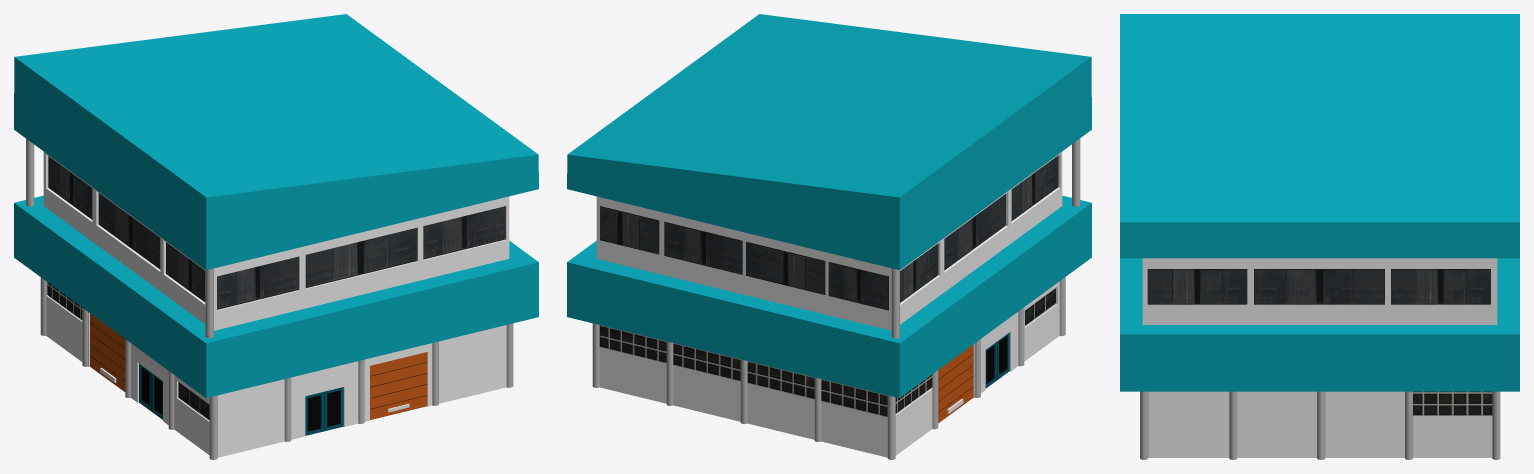
3 views of the same model, side by side, from view 1: azimuth 30°, elevation 25°; view 2: azimuth 150°, elevation 25°; view 3: azimuth 270°, elevation 25° (orthographic). The views are drawn at different scales.
Visible parts, largest first — view 1: EB-007; view 2: EB-007; view 3: EB-007.
Part boxes in pixels (left/top/right/bottom): EB-007: left=14, top=14, right=538, bottom=459; EB-007: left=567, top=14, right=1091, bottom=459; EB-007: left=1120, top=14, right=1519, bottom=459.
Size of what is drawn, in the model's own units: 19.06 by 14.98 by 19.06.
